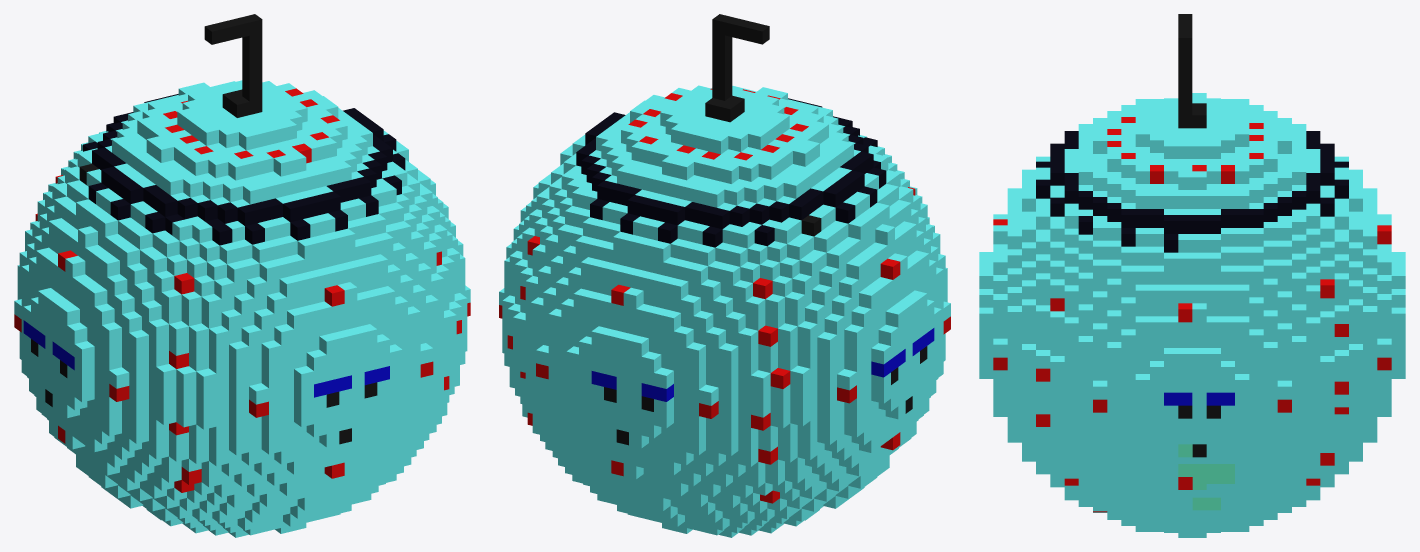
Rendered from RyleyBombe.glb.
3 renders of one model, left to right at view 1: azimuth 30°, elevation 25°; view 2: azimuth 150°, elevation 25°; view 3: azimuth 270°, elevation 25°, orthographic. The views are drawn at different scales.
Visible parts, largest first — view 1: ObjObject.001; view 2: ObjObject.001; view 3: ObjObject.001.
Part boxes in pixels (<box>): ObjObject.001: <box>14,14,470,537</box>; ObjObject.001: <box>499,14,950,537</box>; ObjObject.001: <box>979,14,1405,537</box>.
Size of the model in its own units: 3 by 3.7 by 3.
Materials: 1 (1 with a texture image).
